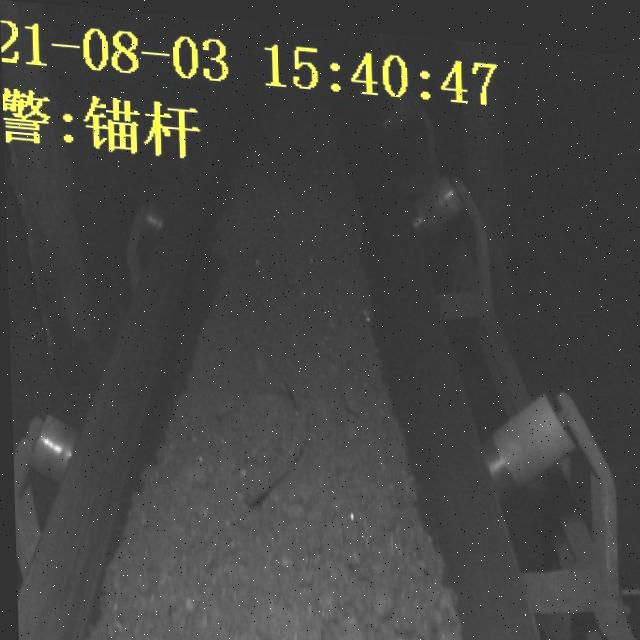bolt: (238, 420, 309, 511)
